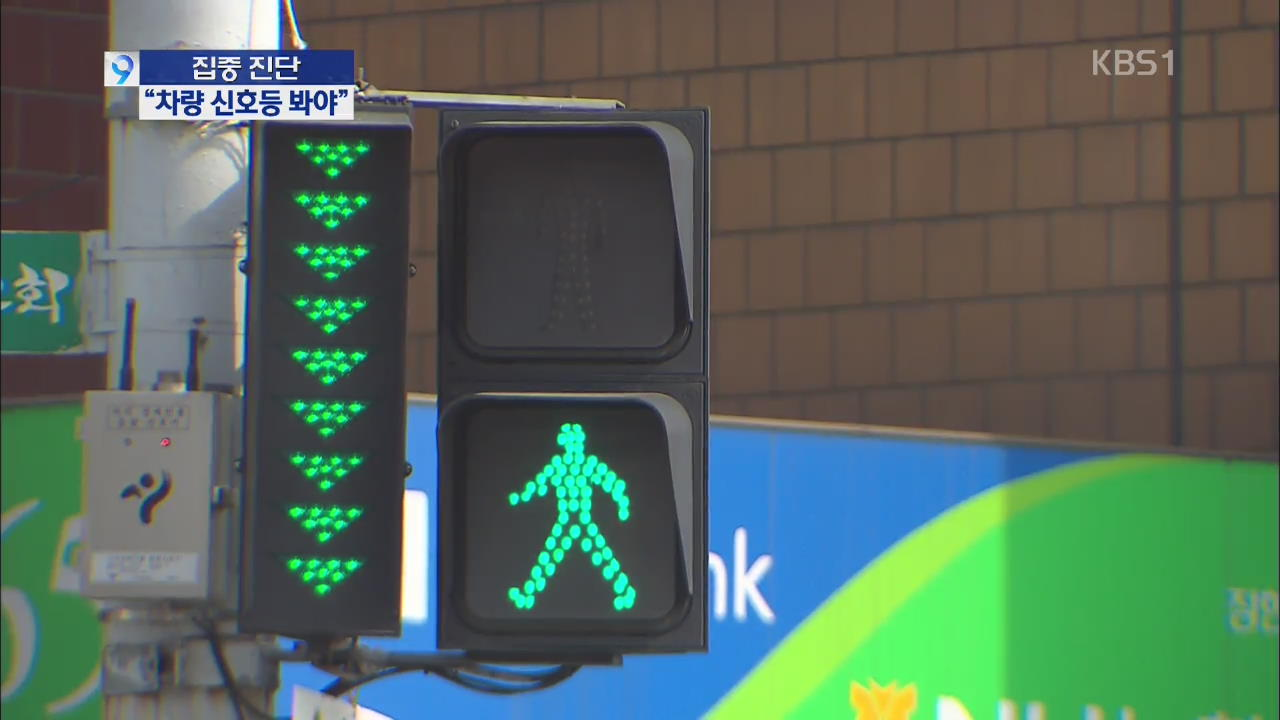traffic_light: (443, 109, 707, 644)
traffic_light_left: (247, 102, 411, 644)
